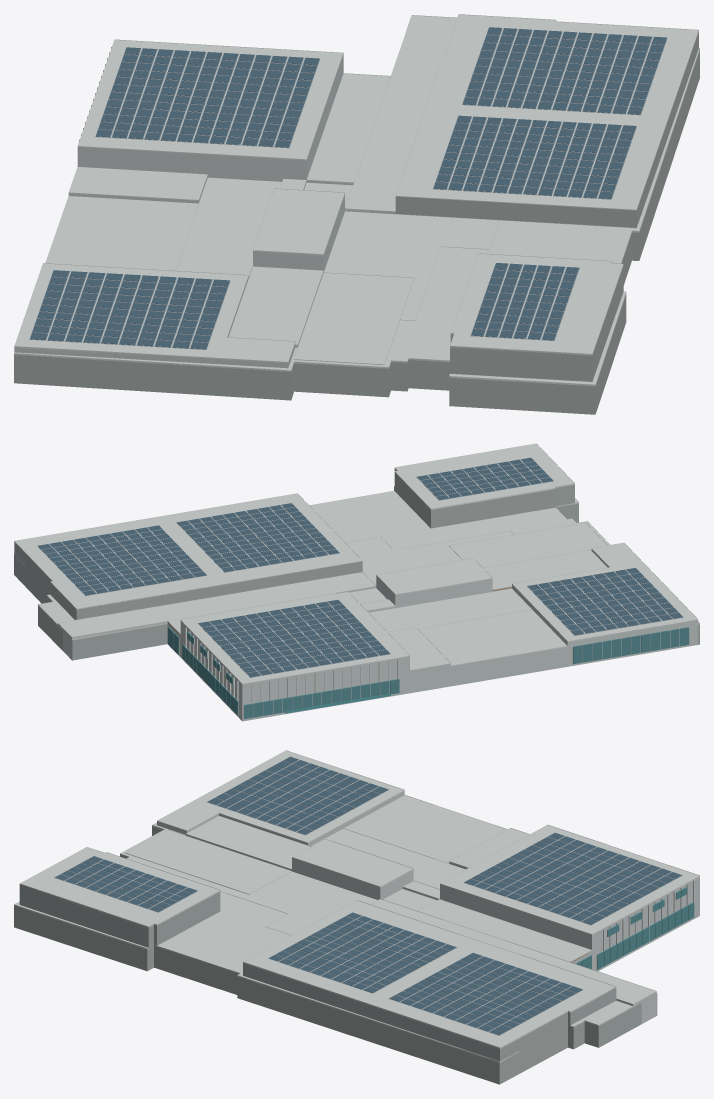
The model's file is burnhamthorpe-community-centre-20261008-study.glb.
3 views of the same model, one above another, from view 1: azimuth 30°, elevation 25°; view 2: azimuth 150°, elevation 25°; view 3: azimuth 270°, elevation 25° (orthographic). The views are drawn at different scales.
Visible parts, largest first — view 1: bcc-Pale flat roof membrane, bcc-Approximate PV modules, bcc-Retained grey masonry, bcc-PV frame, bcc-Light grey metal and masonry, bcc-Pale metal fascia and mullions; view 2: bcc-Pale flat roof membrane, bcc-Approximate PV modules, bcc-Light grey metal and masonry, bcc-Retained grey masonry, bcc-PV frame, bcc-Pale metal fascia and mullions, bcc-Opaque tinted glazing for stable city depth; view 3: bcc-Pale flat roof membrane, bcc-Approximate PV modules, bcc-Retained grey masonry, bcc-PV frame, bcc-Light grey metal and masonry, bcc-Pale metal fascia and mullions, bcc-Opaque tinted glazing for stable city depth.
Part boxes in pixels (bbox=[...]): bcc-Pale flat roof membrane: bbox=[14, 14, 699, 384]; bcc-Approximate PV modules: bbox=[30, 27, 666, 349]; bcc-Retained grey masonry: bbox=[14, 32, 699, 414]; bcc-PV frame: bbox=[29, 27, 667, 349]; bcc-Light grey metal and masonry: bbox=[14, 54, 395, 368]; bcc-Pale metal fascia and mullions: bbox=[14, 14, 699, 386]; bcc-Pale flat roof membrane: bbox=[15, 444, 699, 683]; bcc-Approximate PV modules: bbox=[38, 457, 682, 677]; bcc-Light grey metal and masonry: bbox=[58, 549, 698, 721]; bcc-Retained grey masonry: bbox=[14, 469, 699, 660]; bcc-PV frame: bbox=[37, 458, 683, 677]; bcc-Pale metal fascia and mullions: bbox=[14, 443, 699, 718]; bcc-Opaque tinted glazing for stable city depth: bbox=[167, 626, 689, 719]; bcc-Pale flat roof membrane: bbox=[14, 750, 698, 1057]; bcc-Approximate PV modules: bbox=[55, 756, 681, 1035]; bcc-Retained grey masonry: bbox=[14, 826, 657, 1084]; bcc-PV frame: bbox=[54, 758, 682, 1035]; bcc-Light grey metal and masonry: bbox=[157, 791, 699, 1023]; bcc-Pale metal fascia and mullions: bbox=[14, 750, 699, 1062]; bcc-Opaque tinted glazing for stable city depth: bbox=[575, 887, 694, 969].
Size of the model in its own units: 135 by 9.16 by 128.
